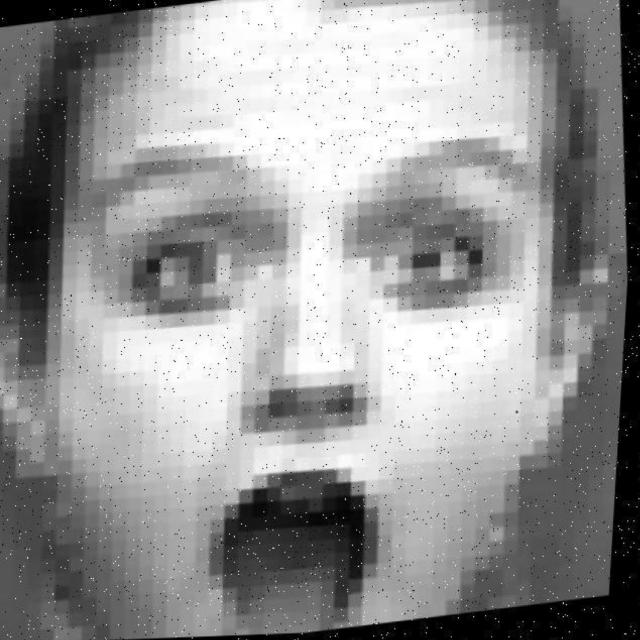Surprised: (30, 116, 619, 640)
